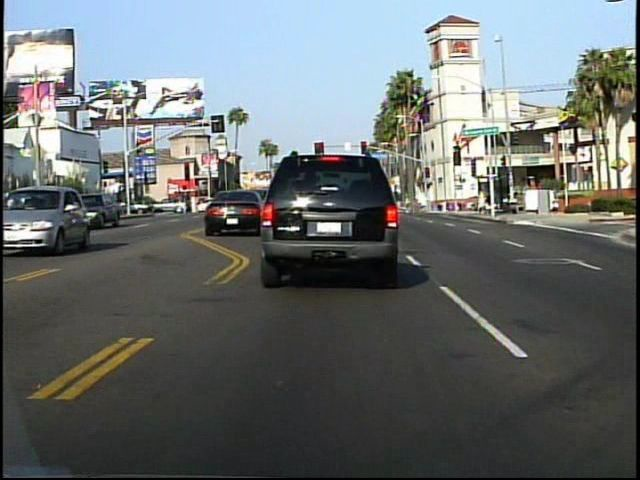person: (180, 186, 191, 220)
